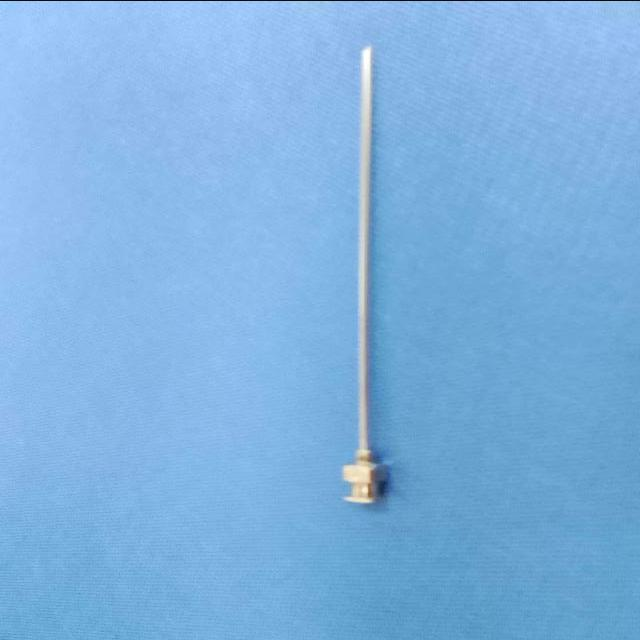General: (338, 454, 390, 505)
Pathological: (0, 0, 639, 639)
Sharps: (340, 44, 387, 504)
